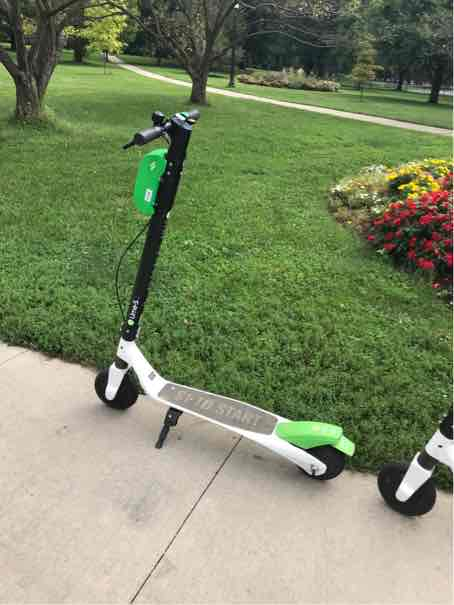scooter: (87, 95, 353, 493)
